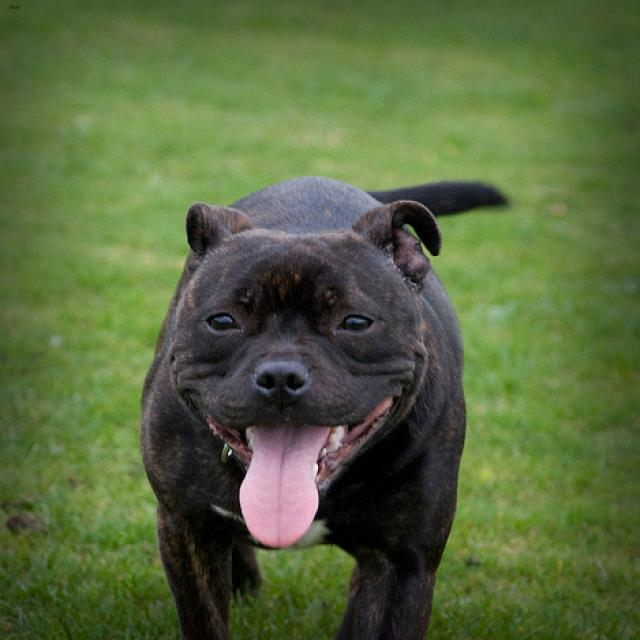dog-staffordshire_bull_terrier: (136, 172, 524, 637)
